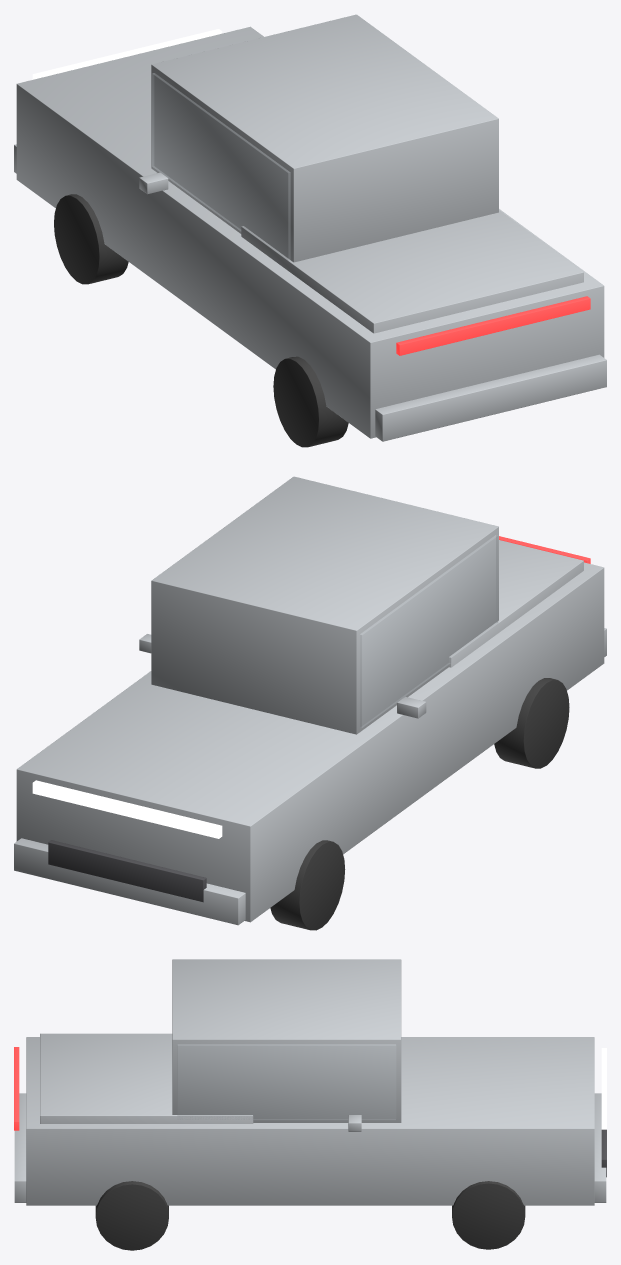
Rendered from vehicle.glb.
3 renders of one model, top to bottom at view 1: azimuth 30°, elevation 25°; view 2: azimuth 150°, elevation 25°; view 3: azimuth 270°, elevation 25°, orthographic. The views are drawn at different scales.
Visible parts, largest first — view 1: BODY_Roof, BODY_Main, BODY_Bed, GLASS_Greenhouse, BODY_Bumpers_Rear, WHEEL_RR_Tire, WHEEL_FR_Tire, LIGHT_Taillights, LIGHT_Headlights; view 2: BODY_Main, BODY_Roof, GLASS_Greenhouse, BODY_Bed, BODY_Bumpers_Front, WHEEL_RR_Tire, WHEEL_FR_Tire, BODY_Grille, LIGHT_Headlights; view 3: BODY_Main, BODY_Roof, GLASS_Greenhouse, BODY_Bed, WHEEL_RL_Tire, WHEEL_FL_Tire, BODY_Bumpers_Rear, BODY_Bumpers_Front, LIGHT_Taillights, LIGHT_Headlights.
Boxes of the visible parts, x1,y1,x2,y2 form: BODY_Roof: [151, 14, 498, 262]; BODY_Main: [16, 26, 604, 438]; BODY_Bed: [241, 210, 583, 333]; GLASS_Greenhouse: [152, 73, 290, 260]; BODY_Bumpers_Rear: [375, 354, 606, 441]; WHEEL_RR_Tire: [273, 356, 348, 447]; WHEEL_FR_Tire: [54, 194, 128, 284]; LIGHT_Taillights: [396, 296, 590, 355]; LIGHT_Headlights: [32, 29, 222, 79]; BODY_Main: [16, 562, 604, 922]; BODY_Roof: [151, 476, 498, 734]; GLASS_Greenhouse: [360, 535, 498, 727]; BODY_Bed: [449, 540, 583, 667]; BODY_Bumpers_Front: [14, 838, 245, 925]; WHEEL_RR_Tire: [494, 678, 569, 768]; WHEEL_FR_Tire: [270, 840, 345, 930]; BODY_Grille: [48, 840, 206, 902]; LIGHT_Headlights: [32, 780, 222, 838]; BODY_Main: [26, 1037, 594, 1205]; BODY_Roof: [172, 959, 401, 1122]; GLASS_Greenhouse: [177, 1044, 395, 1120]; BODY_Bed: [40, 1033, 253, 1123]; WHEEL_RL_Tire: [95, 1181, 168, 1250]; WHEEL_FL_Tire: [452, 1181, 525, 1249]; BODY_Bumpers_Rear: [14, 1093, 26, 1202]; BODY_Bumpers_Front: [594, 1093, 606, 1202]; LIGHT_Taillights: [14, 1047, 19, 1130]; LIGHT_Headlights: [601, 1048, 606, 1129].
Bounding box in the file's own units: 2.36 × 2.04 × 5.41.
